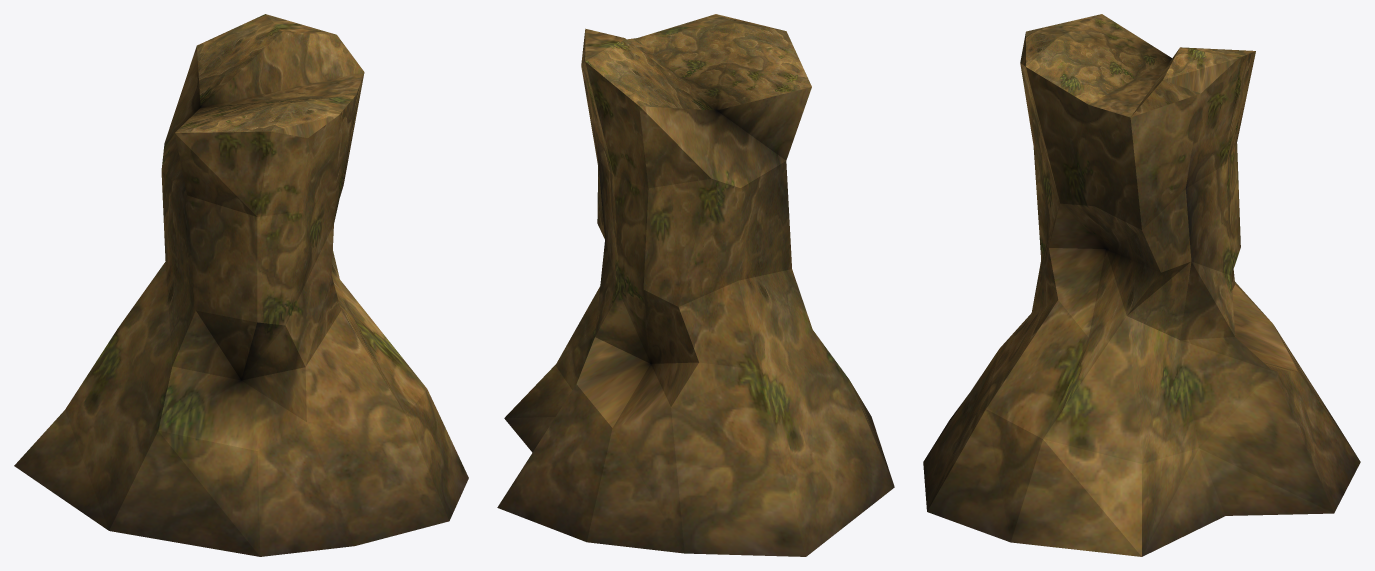
File: swamp-rat-nest-b-lod1.glb
3 views of the same model, side by side, from view 1: azimuth 30°, elevation 25°; view 2: azimuth 150°, elevation 25°; view 3: azimuth 270°, elevation 25° (orthographic). The views are drawn at different scales.
Visible parts, largest first — view 1: swamp-rat-nest-b-lod1; view 2: swamp-rat-nest-b-lod1; view 3: swamp-rat-nest-b-lod1.
Boxes of the visible parts, x1,y1,x2,y2 form: swamp-rat-nest-b-lod1: (14, 14, 468, 556); swamp-rat-nest-b-lod1: (497, 14, 894, 556); swamp-rat-nest-b-lod1: (923, 14, 1360, 556).
Size of the model in its own units: 5.05 by 5.6 by 5.05.
Materials: 1 (1 with a texture image).
